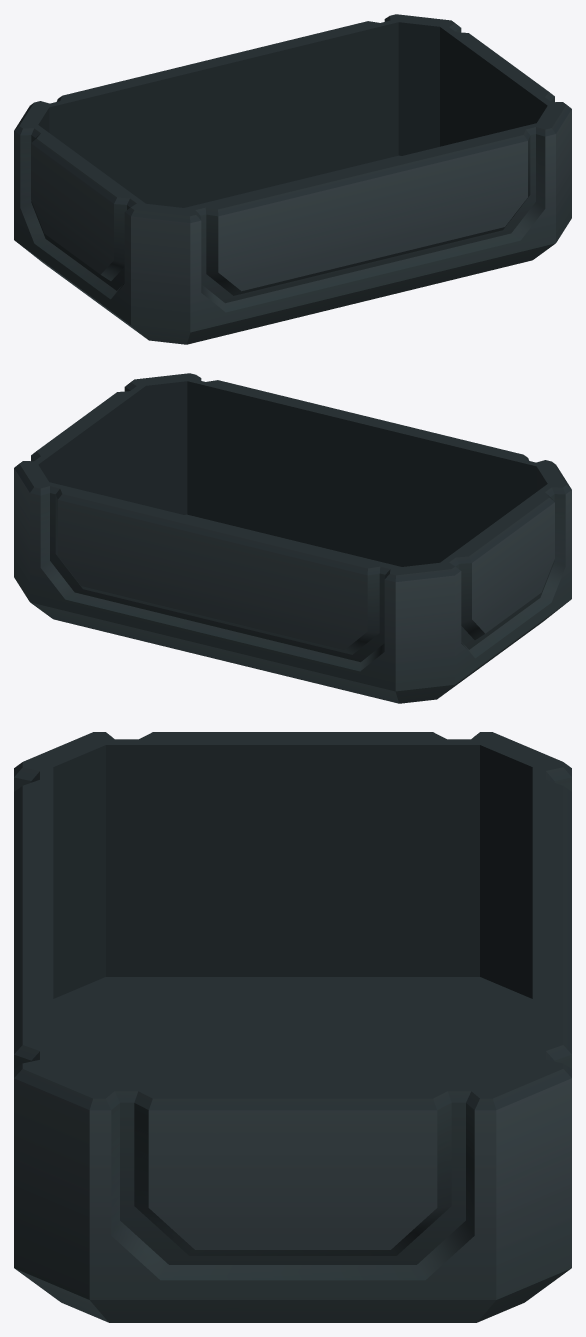
Rendered from Crate_013.glb.
3 renders of one model, top to bottom at view 1: azimuth 30°, elevation 25°; view 2: azimuth 150°, elevation 25°; view 3: azimuth 270°, elevation 25°, orthographic. The views are drawn at different scales.
Parts seen in each view (by area): view 1: Crate_013; view 2: Crate_013; view 3: Crate_013.
Part boxes in pixels (x1,y1,x2,y2): Crate_013: (14,14,571,344); Crate_013: (14,373,571,703); Crate_013: (14,732,571,1322).
Size of the model in its own units: 1.02 by 0.3046 by 0.6405.
Materials: 1 (1 with a texture image).
